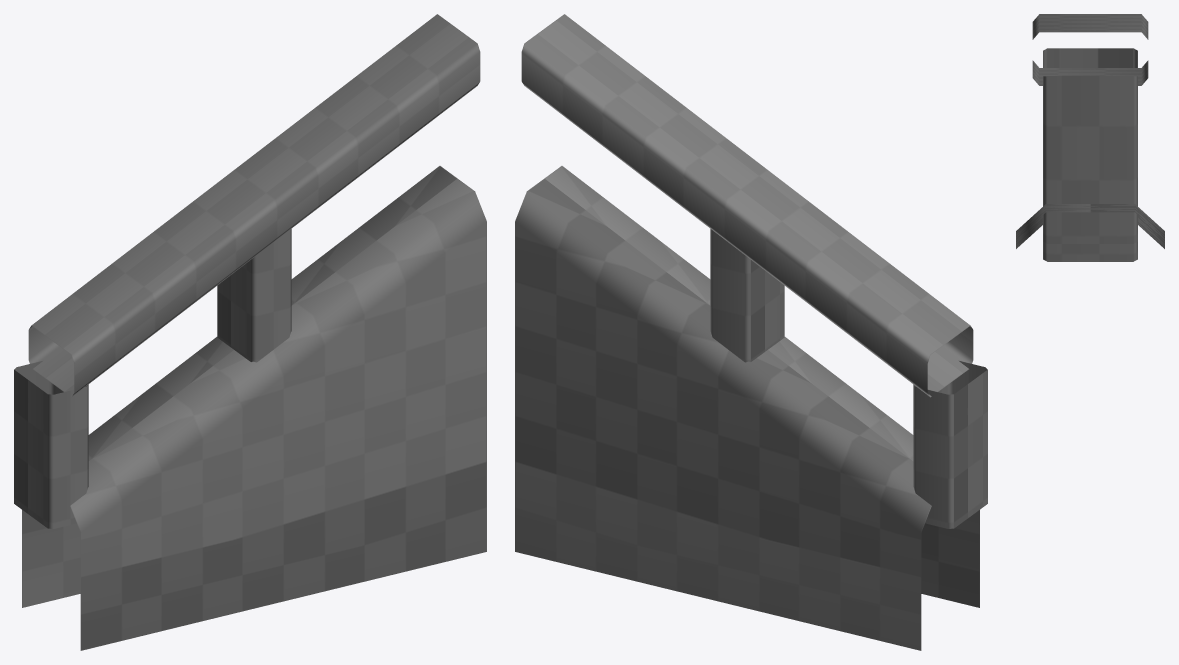
The model's file is StairsRailing_X2_Y2_Z2.fbx.
3 views of the same model, side by side, from view 1: azimuth 30°, elevation 25°; view 2: azimuth 150°, elevation 25°; view 3: azimuth 270°, elevation 25° (orthographic). The views are drawn at different scales.
Visible parts, largest first — view 1: StairsRailing_X2_Y2_Z2; view 2: StairsRailing_X2_Y2_Z2; view 3: StairsRailing_X2_Y2_Z2.
Boxes of the visible parts, x1,y1,x2,y2 form: StairsRailing_X2_Y2_Z2: [14, 14, 486, 650]; StairsRailing_X2_Y2_Z2: [515, 14, 987, 650]; StairsRailing_X2_Y2_Z2: [1016, 14, 1164, 261].
Bounding box in the file's own units: 2.1 × 2.36 × 0.5.
